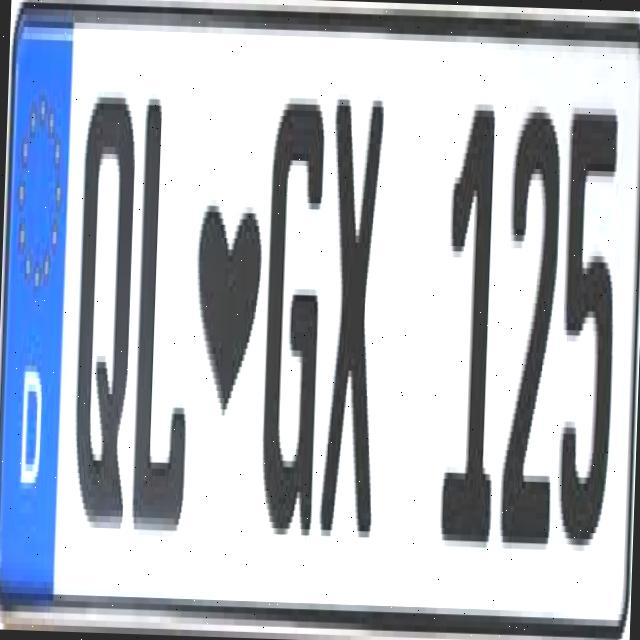Allemagne: (0, 0, 75, 610)
EU: (0, 0, 640, 622)
